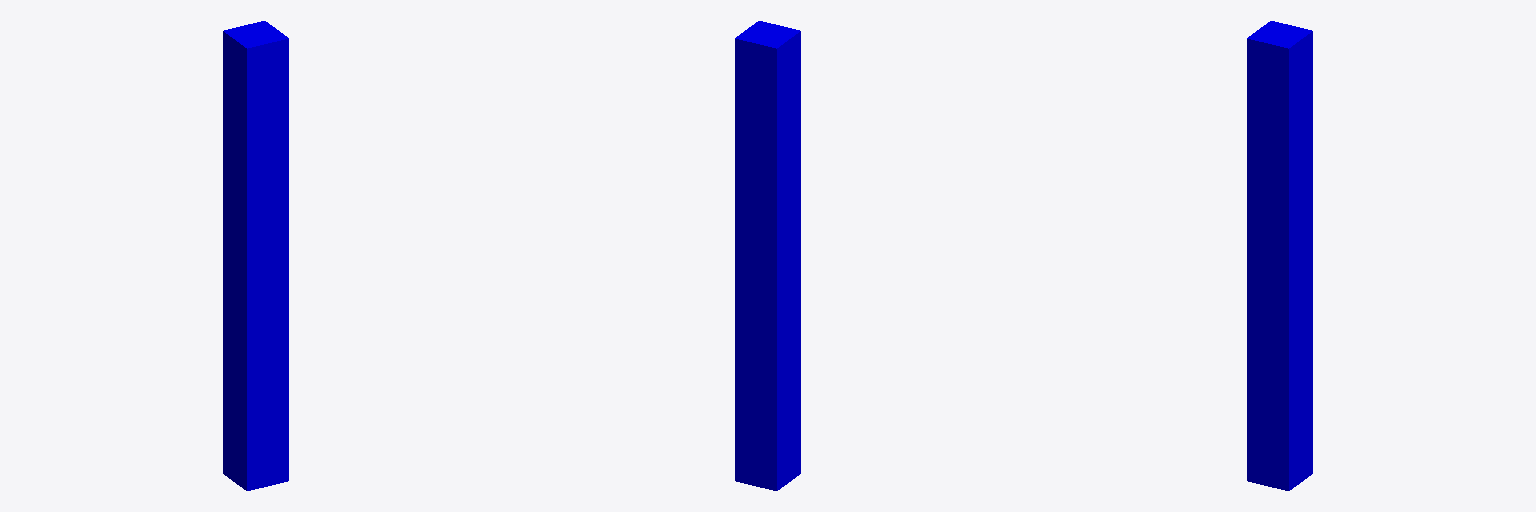
The robot description file, URDF, robot "simple_cube":
<?xml version="1.0"?>
<robot name="simple_cube">
  <material name="blue">
    <color rgba="0 0 1 1"/>
  </material>
  <link name="cube_link">
    <visual>
      <geometry>
        <box size="0.05 0.05 0.5"/>
      </geometry>
      <material name="blue"/>
    </visual>
    <collision>
      <geometry>
        <box size="0.05 0.05 0.05"/>
      </geometry>
    </collision>
    <inertial>
      <mass value="0.01"/>
      <origin xyz="0 0 0"/>
      <inertia ixx="0.0001" ixy="0.0" ixz="0.0" iyy="0.0001" iyz="0.0" izz="0.0001"/>
    </inertial>
  </link>
  <gazebo reference="cube_link">
    <material>Gazebo/Blue</material>
  </gazebo>
</robot>

--- Facts derived from the render (not from the file) ---
3 views of the same robot in one strip: view 1: azimuth 30°, elevation 25°; view 2: azimuth 150°, elevation 25°; view 3: azimuth 330°, elevation 25° (orthographic).
Model simple_cube with 1 links and 0 joints (none), rooted at cube_link, posed all joints at 0.
Visible links, largest first — view 1: cube_link; view 2: cube_link; view 3: cube_link.
Boxes of the visible links, bbox=[...] form: cube_link: bbox=[223, 21, 288, 490]; cube_link: bbox=[735, 21, 800, 490]; cube_link: bbox=[1247, 21, 1312, 490].
Size in the robot's own frame: 0.05 by 0.05 by 0.5 metres.
Geometry: primitives only (box / cylinder / sphere), no mesh files.
